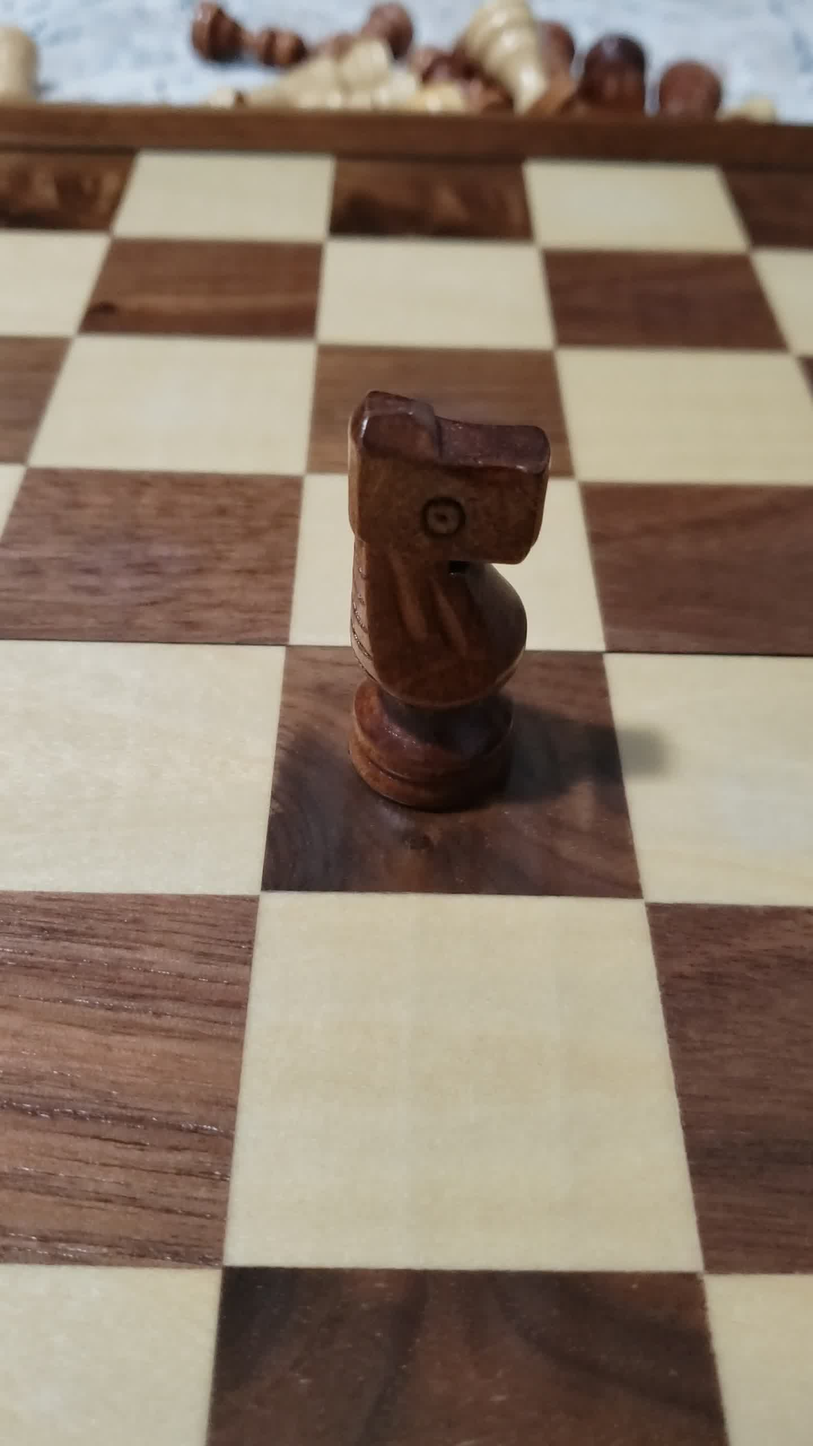black-knight: (316, 373, 573, 827)
